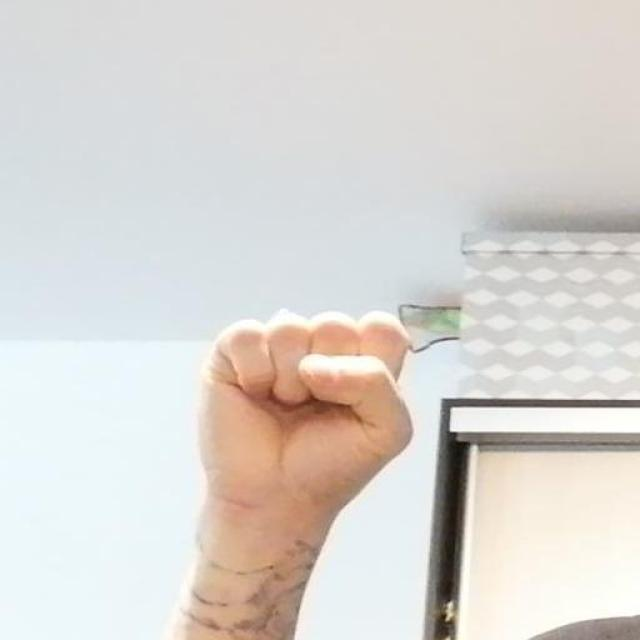hand: (192, 306, 414, 566)
